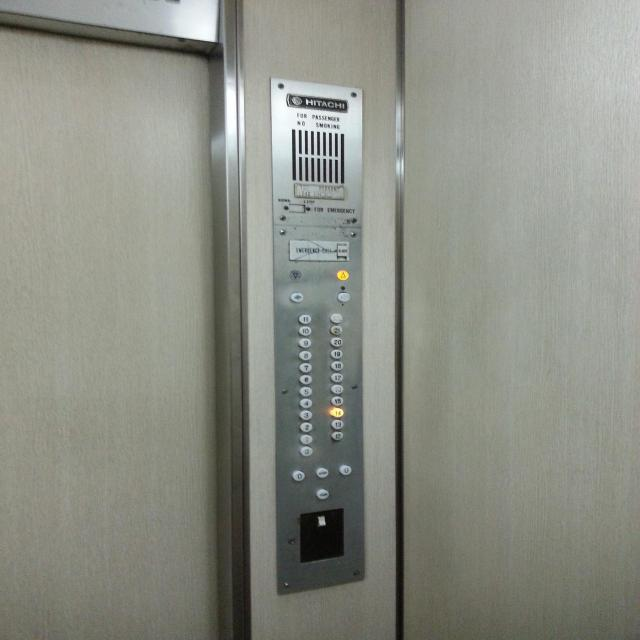1: (299, 434, 313, 444)
10: (297, 326, 312, 336)
11: (298, 314, 311, 324)
12: (330, 431, 344, 440)
13: (331, 419, 343, 429)
14: (330, 407, 344, 417)
15: (331, 396, 344, 406)
16: (330, 384, 343, 394)
17: (330, 372, 342, 382)
18: (330, 361, 343, 370)
19: (330, 349, 343, 358)
2: (300, 422, 312, 432)
20: (330, 336, 343, 346)
21: (330, 325, 342, 335)
22: (329, 314, 342, 323)
3: (299, 410, 312, 420)
4: (298, 398, 312, 408)
5: (298, 386, 312, 396)
6: (299, 374, 312, 384)
7: (298, 363, 312, 372)
8: (298, 350, 312, 360)
9: (298, 338, 311, 347)
D: (291, 470, 305, 481)
G: (300, 446, 312, 456)
U: (339, 465, 351, 475)
close: (337, 292, 350, 302)
down: (289, 270, 302, 280)
empty: (287, 202, 305, 214)
open: (290, 292, 303, 303)
switch: (316, 514, 326, 528)
text: (316, 468, 328, 478)
text_PASS: (316, 489, 328, 499)
text_blur: (336, 244, 348, 258)
up: (336, 270, 349, 280)
